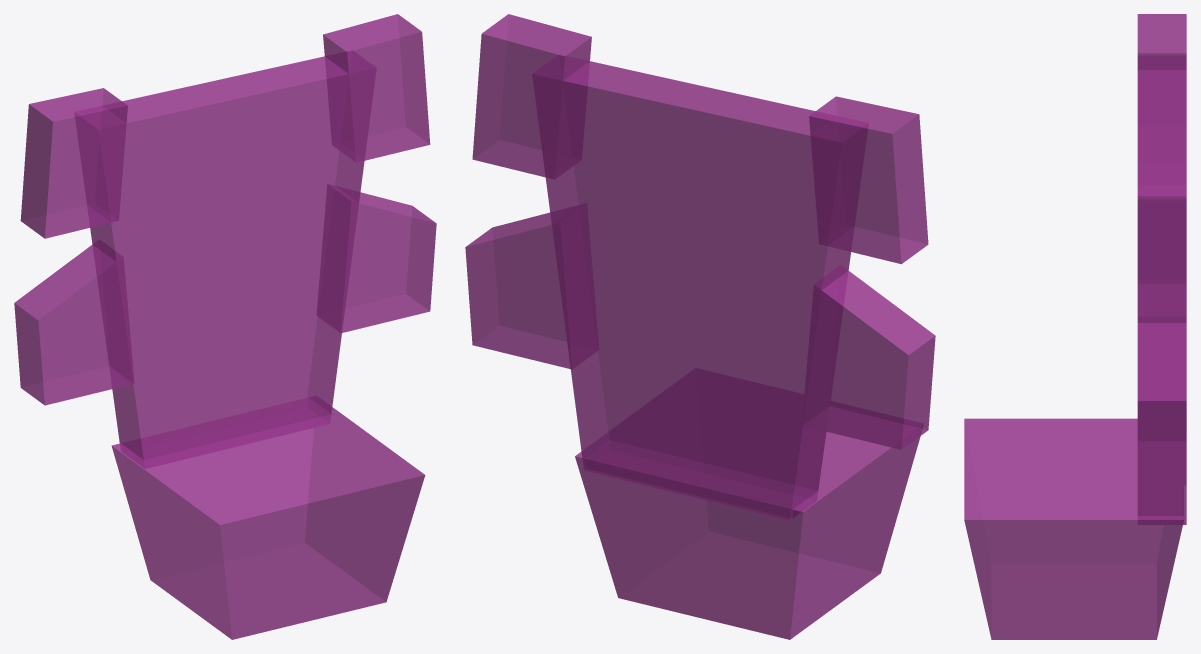
Rendered from SM_Prop_Throne_01_Collision.fbx.
The picture shows the model from 3 angles, left to right: view 1: azimuth 30°, elevation 25°; view 2: azimuth 150°, elevation 25°; view 3: azimuth 270°, elevation 25°; orthographic projection. The views are drawn at different scales.
Parts seen in each view (by area): view 1: SM_Prop_Throne_01_Collision; view 2: SM_Prop_Throne_01_Collision; view 3: SM_Prop_Throne_01_Collision.
Boxes of the visible parts, left/top/right/bottom form: SM_Prop_Throne_01_Collision: left=14, top=14, right=436, bottom=639; SM_Prop_Throne_01_Collision: left=465, top=14, right=935, bottom=639; SM_Prop_Throne_01_Collision: left=964, top=14, right=1186, bottom=639.
Size of the model in its own units: 146 by 172 by 69.88.
